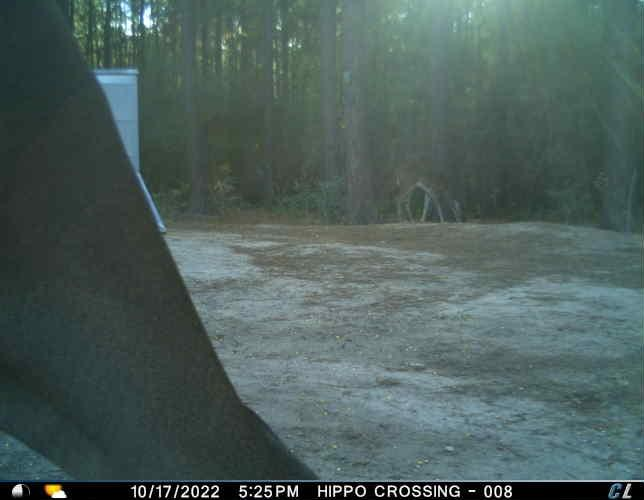Deer: (0, 0, 321, 480), (386, 158, 466, 228)
